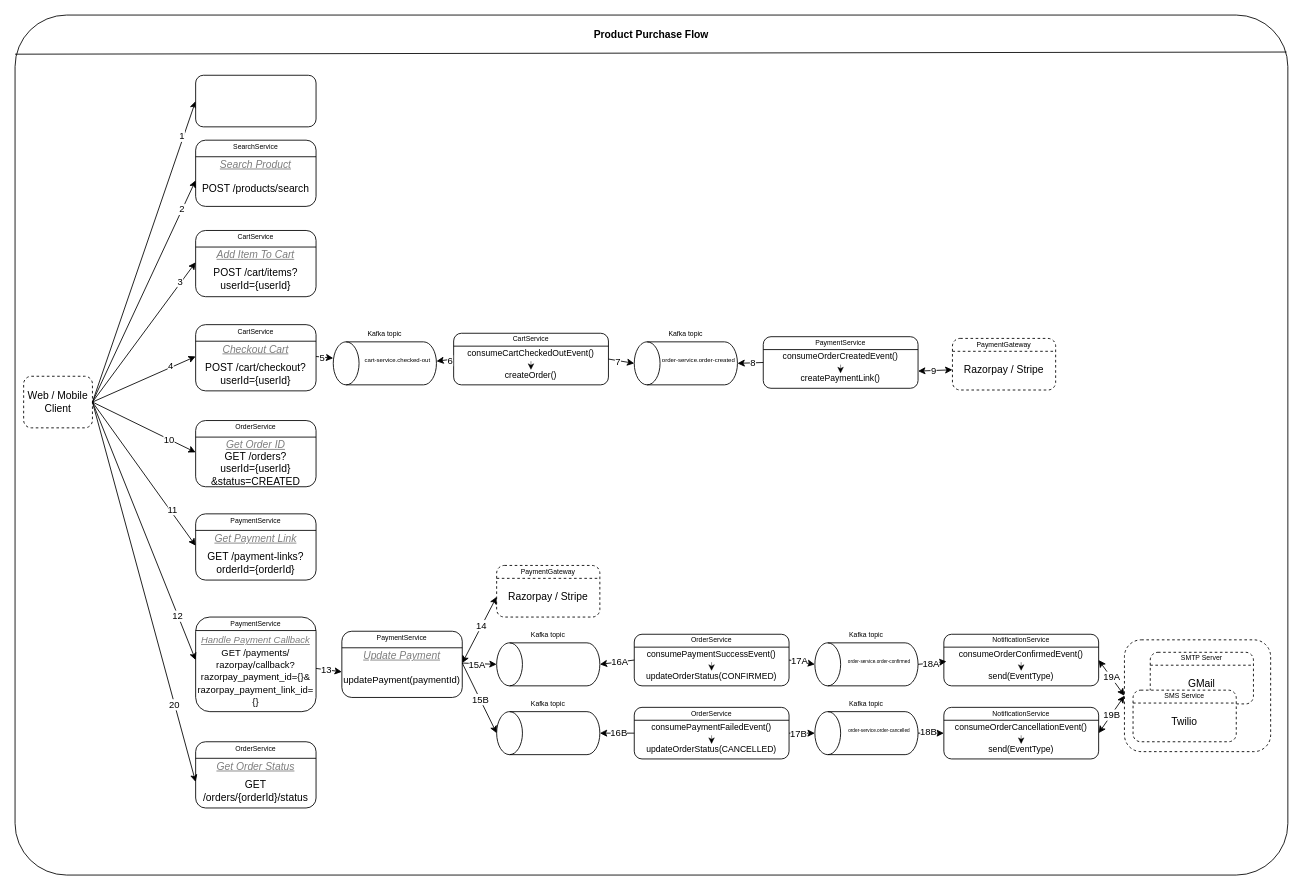
This 1303x890 diagram has some shape labels left out. Each missing label, with the centre of its shape:
"Login Flow" belongs at (x=255, y=100).
"payment-service.payment-failed" belongs at (x=548, y=733).
"payment-service.payment-success" belongs at (x=548, y=664).
